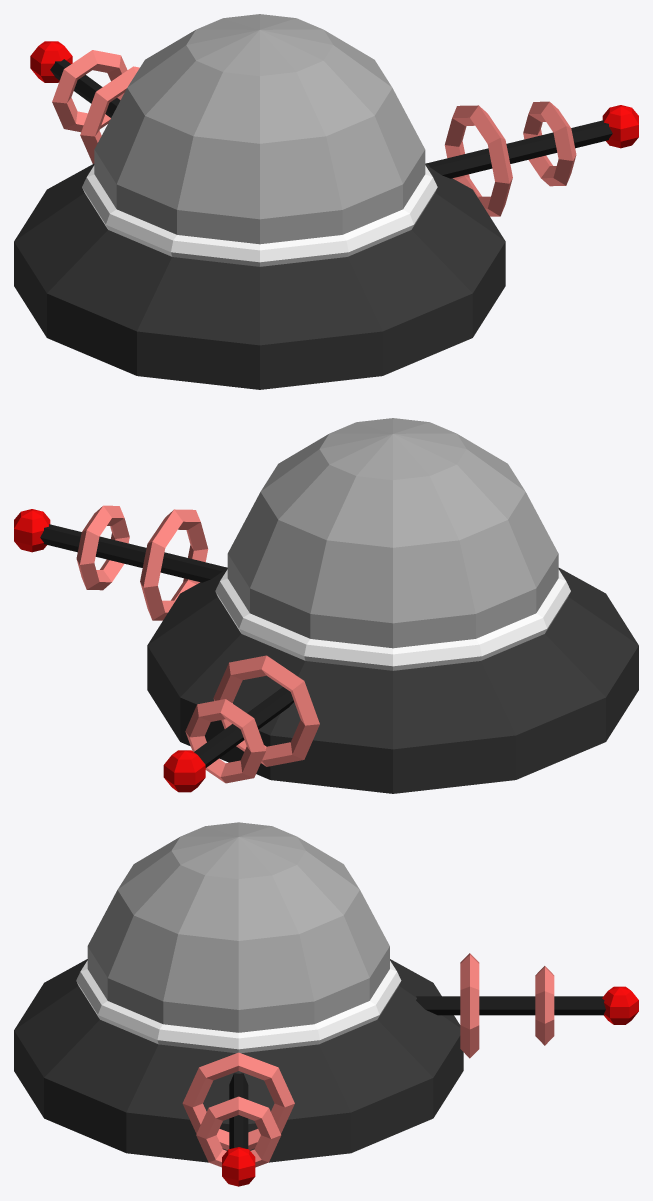
Rendered from alien_ship2.fbx.
3 views of the same model, one above another, from view 1: azimuth 30°, elevation 25°; view 2: azimuth 150°, elevation 25°; view 3: azimuth 270°, elevation 25° (orthographic). The views are drawn at different scales.
Visible parts, largest first — view 1: merge4; view 2: merge4; view 3: merge4.
Boxes of the visible parts, x1=… form: merge4: x1=14, y1=14, x2=638, y2=389; merge4: x1=14, y1=418, x2=638, y2=793; merge4: x1=14, y1=822, x2=638, y2=1186.
Bounding box in the file's own units: 2.78 × 1.15 × 2.78.
